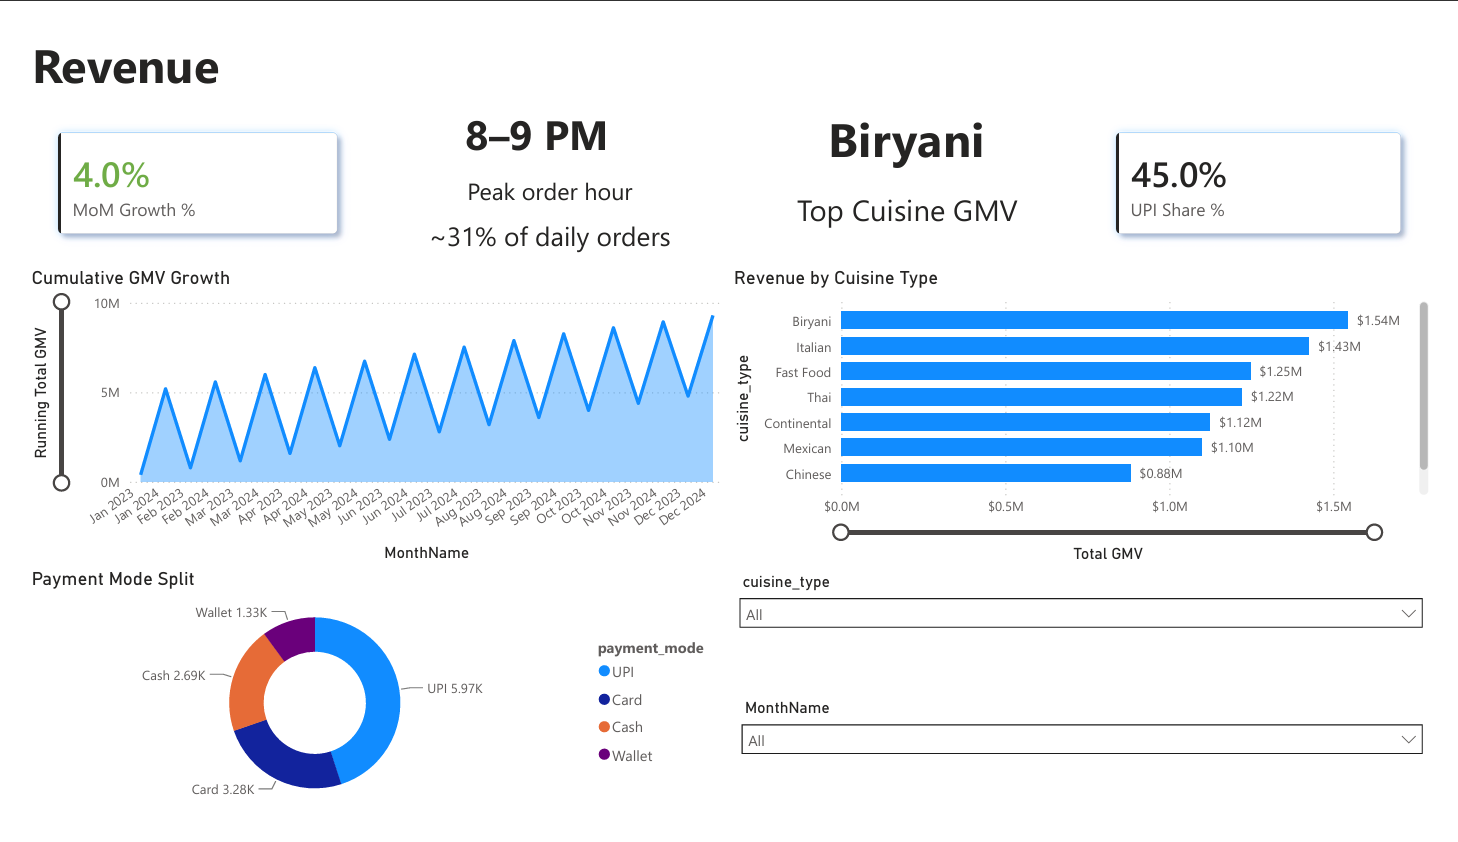

What the dashboard file says about the page in this screenshot:
{"tool":"powerbi","page":{"name":"Revenue","canvas":[1280,720],"ordinal":3},"visuals":[{"type":"textbox","box":[0,0,1280.6,66.9],"z":0},{"type":"cardVisual","fields":{"Data":["_Measures.MoM Growth %"]},"box":[0,66.9,312,150.9],"z":1},{"type":"textbox","box":[312,66.9,329.1,61.7],"z":2,"group":"g1"},{"type":"textbox","box":[312,128.6,329.1,39.4],"z":3,"group":"g1"},{"type":"textbox","box":[312,168,329.1,49.7],"z":4,"group":"g1"},{"type":"group","id":"g1","title":"Group 1","box":[312,66.9,329.1,150.9],"z":5},{"type":"textbox","box":[639.4,66.9,324,75.4],"z":6,"group":"g2"},{"type":"textbox","box":[641.1,142.3,322.3,75.4],"z":7,"group":"g2"},{"type":"group","id":"g2","title":"Group 2","box":[639.4,66.9,324,150.9],"z":8},{"type":"cardVisual","fields":{"Data":["_Measures.UPI Share %"]},"box":[963.4,66.9,317.1,150.9],"z":9},{"type":"areaChart","title":"Cumulative GMV Growth","fields":{"Category":["DateTable.MonthName"],"Y":["_Measures.Running Total GMV"]},"box":[0,217.7,639.4,274.3],"z":10},{"type":"clusteredBarChart","title":"Revenue by Cuisine Type","fields":{"Category":["restaurants.cuisine_type"],"Y":["_Measures.Total GMV"]},"box":[639.4,217.7,641.1,274.3],"z":11},{"type":"donutChart","title":"Payment Mode Split","fields":{"Category":["orders.payment_mode"],"Y":["CountNonNull(orders.order_id)"]},"box":[0,492,639.4,228],"z":12},{"type":"slicer","fields":{"Values":["restaurants.cuisine_type"]},"box":[639.4,492,641.1,114.9],"z":13},{"type":"slicer","fields":{"Values":["DateTable.MonthName"]},"box":[641.1,606.9,639.4,113.1],"z":14}]}

Visuals, with their boxes in screenshot pixels (x1, y1, x2, y2), scaled from the page's 1280x720 canvas onto the 1458x842 screenshot:
textbox: crop(0, 0, 1457, 78)
cardVisual - _Measures.MoM Growth %: crop(0, 78, 355, 255)
textbox: crop(355, 78, 730, 150)
textbox: crop(355, 150, 730, 196)
textbox: crop(355, 196, 730, 255)
"Group 1" group: crop(355, 78, 730, 255)
textbox: crop(728, 78, 1097, 166)
textbox: crop(730, 166, 1097, 255)
"Group 2" group: crop(728, 78, 1097, 255)
cardVisual - _Measures.UPI Share %: crop(1097, 78, 1457, 255)
"Cumulative GMV Growth" areaChart: crop(0, 255, 728, 575)
"Revenue by Cuisine Type" clusteredBarChart: crop(728, 255, 1457, 575)
"Payment Mode Split" donutChart: crop(0, 575, 728, 841)
slicer - restaurants.cuisine_type: crop(728, 575, 1457, 710)
slicer - DateTable.MonthName: crop(730, 710, 1457, 841)
